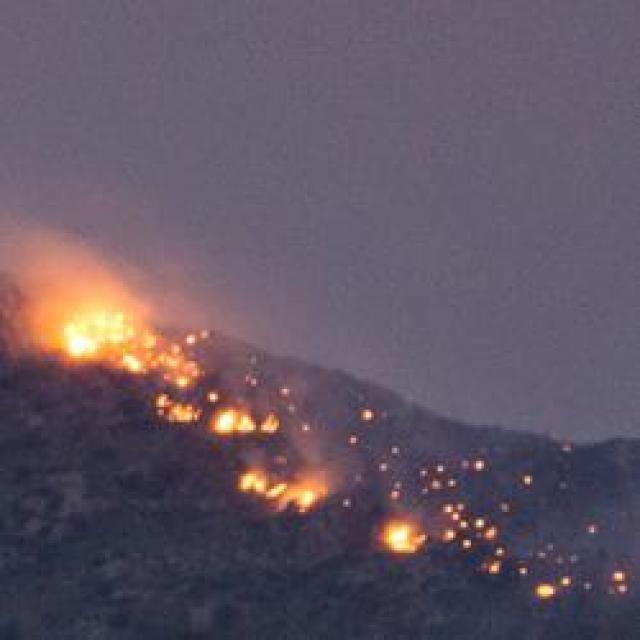fire: (66, 309, 124, 357)
smoke: (30, 263, 143, 308)
